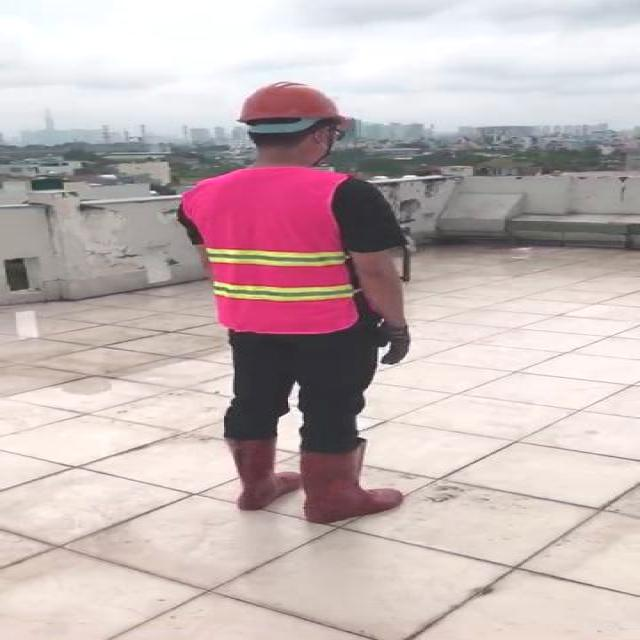boots: (295, 442, 404, 523), (226, 438, 292, 523)
hand_glove: (375, 322, 414, 366)
head_helmet: (238, 80, 348, 126)
person: (156, 72, 428, 546)
vest: (181, 167, 352, 334)
